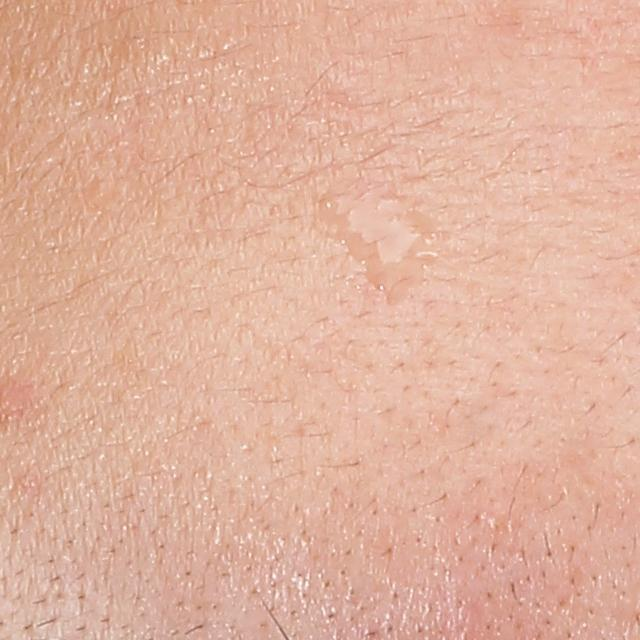other: (296, 175, 451, 293)
